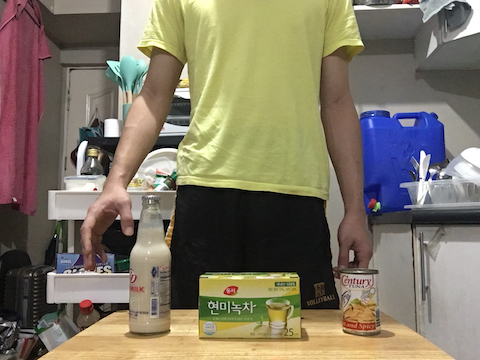bottle: (125, 193, 174, 342)
box: (195, 270, 307, 342)
can: (339, 266, 382, 338)
